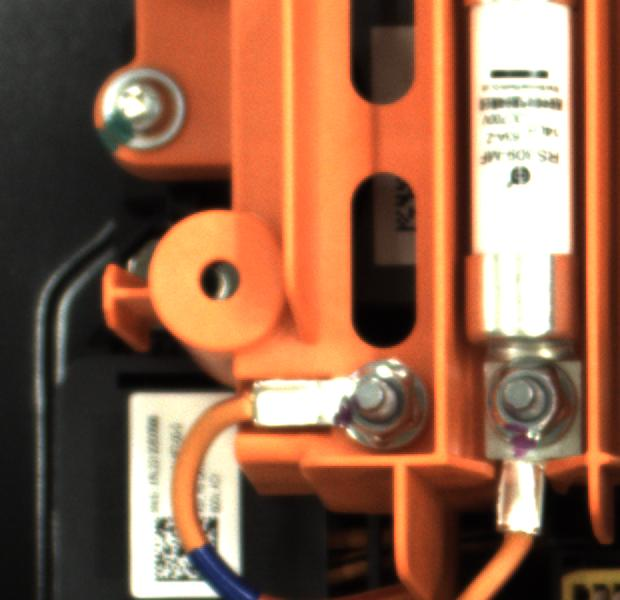screw_m: (88, 62, 203, 160)
screw_s: (473, 360, 575, 446), (329, 356, 417, 439)
